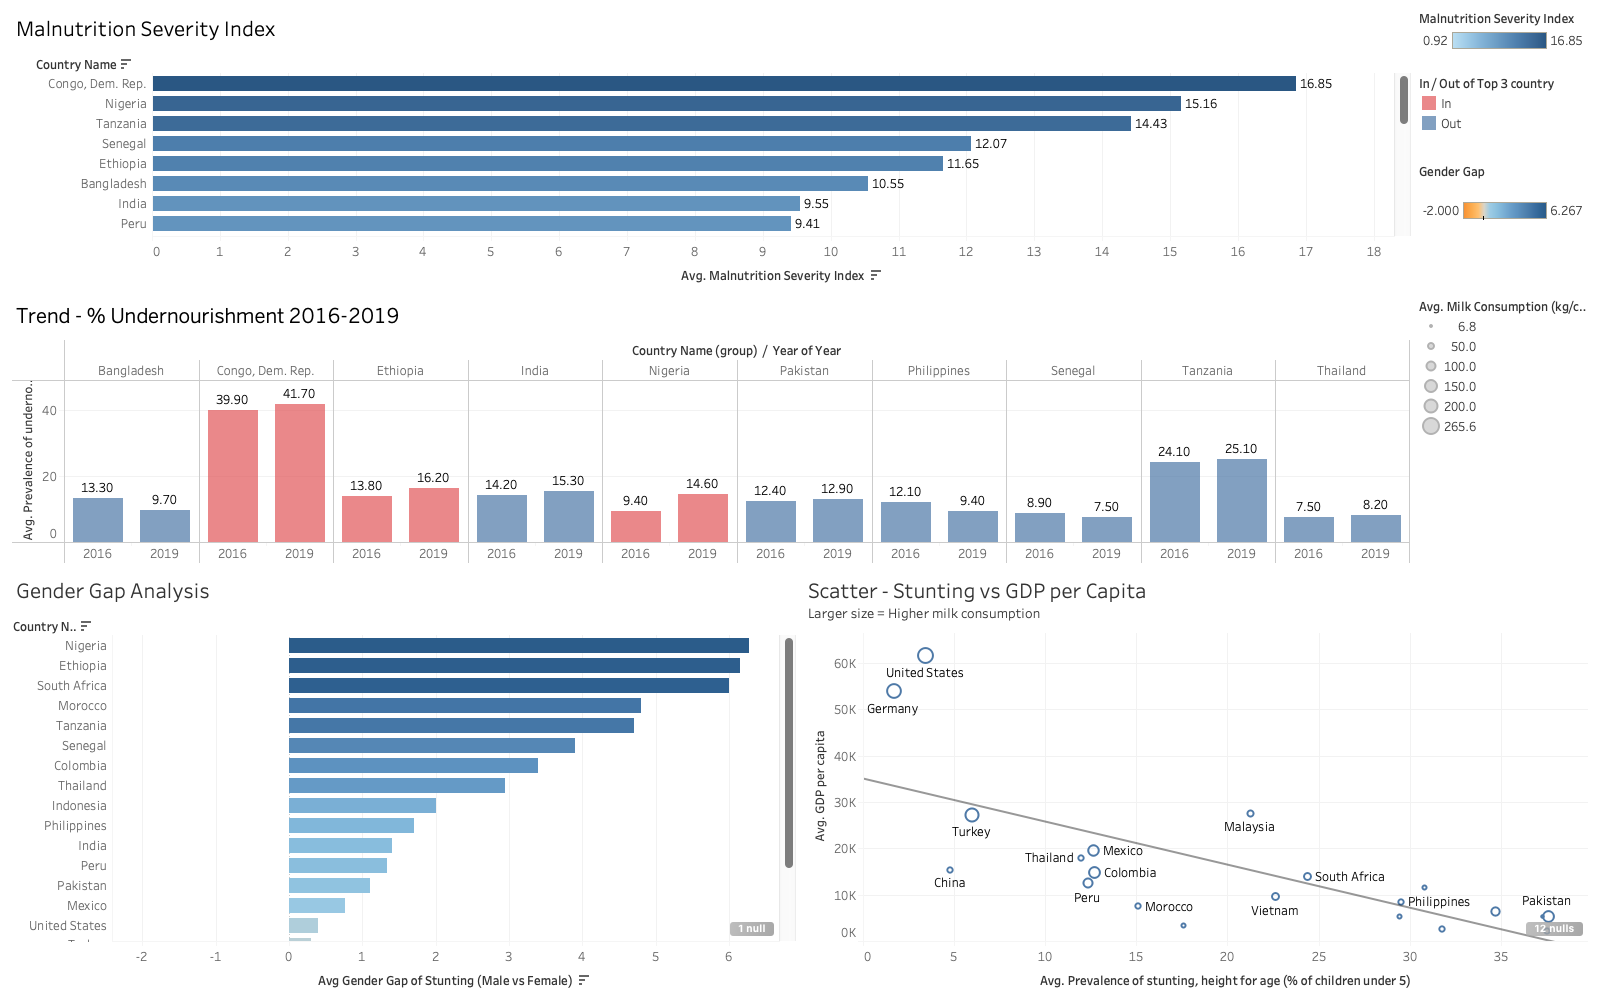

Layout of this report page (visuals, bound fields, positions):
{"tool":"tableau","page":{"name":"2. Nutrition Security Crisis","canvas":[1000,1000],"units":"permille","ordinal":1},"visuals":[{"type":"worksheet","title":"Malnutrition Severity Index","mark":"Automatic","rows":["Country Name"],"cols":["Calculation_469148426863939584"],"box":[6.4,8.9,844.9,285.3]},{"type":"legend","title":"Malnutrition Severity Index","param":"[federated.1823flp0yye8aa1earymd1le6a7y].[avg:Calculation_469148426863939584:qk]","box":[851.3,8.9,142.3,72.2]},{"type":"legend","title":"% Undernourishment","param":"[federated.1823flp0yye8aa1earymd1le6a7y].[io:Set 1:nk]","box":[851.3,81.1,142.3,97.8]},{"type":"legend","title":"Gender Gap Analysis","param":"[federated.09alctc0k9nlqe12vpx280e0w571].[avg:Calculation_2764576862039384066:qk","box":[851.3,178.9,142.3,150]},{"type":"worksheet","title":"% Undernourishment","mark":"Bar","rows":["Prevalence of undernourishment (% of population)"],"cols":["Year"],"box":[6.4,294.2,844.9,270.2]},{"type":"legend","title":"Scatter - Stunting vs GDP per Capita","param":"[federated.09alctc0k9nlqe12vpx280e0w571].[avg:Milk Consumption (kg/capita/year):","box":[851.3,328.9,142.3,163.3]},{"type":"worksheet","title":"Gender Gap Analysis","mark":"Automatic","rows":["Country Name"],"cols":["Calculation_2764576862039384066"],"box":[6.4,564.4,493.5,426.7]},{"type":"worksheet","title":"Scatter - Stunting vs GDP per Capita","mark":"Automatic","rows":["GDP per capita"],"cols":["Prevalence of stunting, height for age (% of children under "],"box":[499.9,564.4,493.6,426.7]}]}

Visuals, with their boxes on the dashboard's canvas, which has no fixed pixel size, in thousandths of its width and height (x1, y1, x2, y2). These are canvas units, not pixel positions in the 1605x1004 screenshot, which may show the page scaled, cropped or inside an application window:
"Malnutrition Severity Index" worksheet: left=6, top=9, right=851, bottom=294
"Malnutrition Severity Index" legend: left=851, top=9, right=994, bottom=81
"% Undernourishment" legend: left=851, top=81, right=994, bottom=179
"Gender Gap Analysis" legend: left=851, top=179, right=994, bottom=329
"% Undernourishment" worksheet (Bar marks): left=6, top=294, right=851, bottom=564
"Scatter - Stunting vs GDP per Capita" legend: left=851, top=329, right=994, bottom=492
"Gender Gap Analysis" worksheet: left=6, top=564, right=500, bottom=991
"Scatter - Stunting vs GDP per Capita" worksheet: left=500, top=564, right=994, bottom=991
